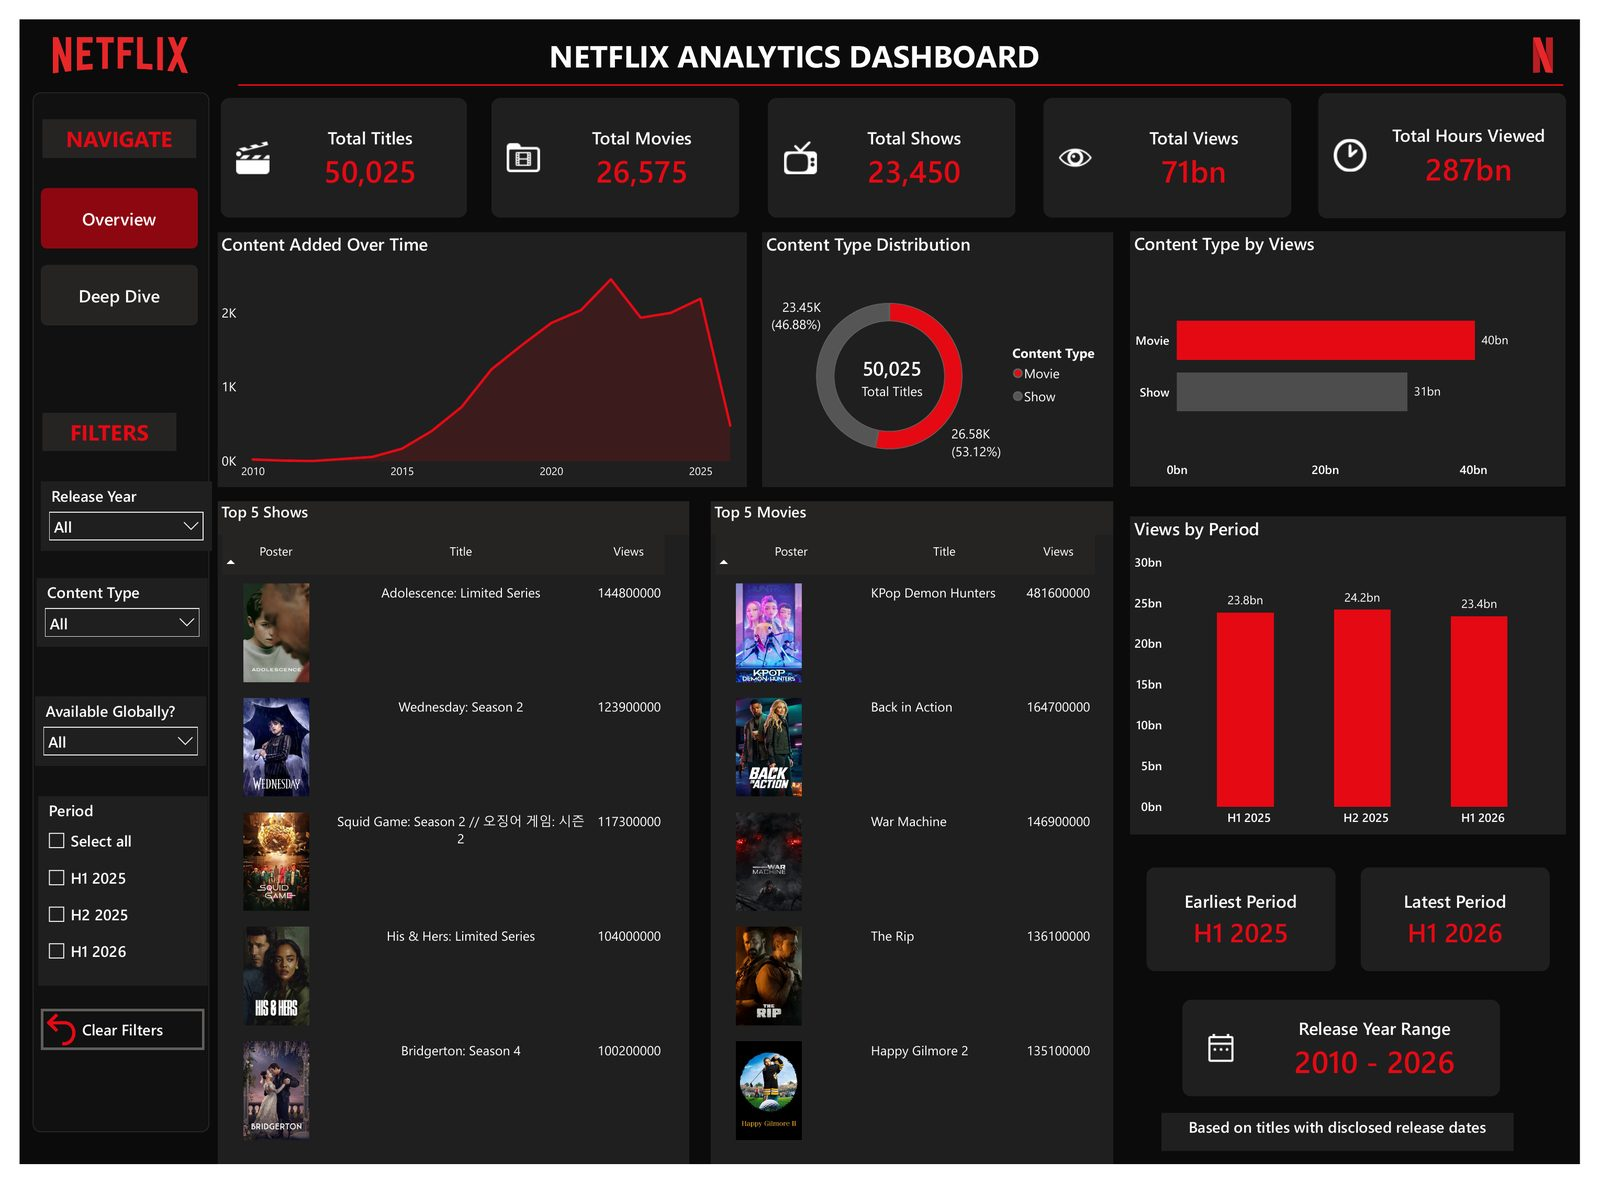

What the dashboard file says about the page in this screenshot:
{"tool":"powerbi","page":{"name":"\tOverview","canvas":[1908,1400],"ordinal":0},"visuals":[{"type":"shape","box":[16.4,89.1,215.8,1271.5],"z":0},{"type":"image","box":[18.1,0,209.9,86.9],"z":1000},{"type":"image","box":[1806,0,114,86.9],"z":2000},{"type":"textbox","box":[642.8,14.1,624.3,72.4],"z":3000},{"type":"shape","box":[266.7,72.9,1621.5,14.5],"z":4000},{"type":"cardVisual","fields":{"Data":["_Measures.Total Titles"]},"box":[229.2,79.2,335.5,180.6],"z":5000},{"type":"cardVisual","fields":{"Data":["_Measures.Total TV Shows"]},"box":[897.9,79.2,337.8,180.6],"z":6000},{"type":"cardVisual","fields":{"Data":["_Measures.Total Views"]},"box":[1235.4,79.2,337.8,180.6],"z":7000},{"type":"cardVisual","fields":{"Data":["_Measures.Total Hours Viewed"]},"box":[1570.8,72.9,337.8,187.7],"z":8000},{"type":"cardVisual","fields":{"Data":["_Measures.Total Movies"]},"box":[560.4,79.2,337.8,180.6],"z":9000},{"type":"areaChart","title":"Content Added Over Time","fields":{"Y":["_Measures.Total Titles"],"Category":["Netflix_Combined.Release Year"]},"box":[241.6,260.4,647.5,312],"z":10000},{"type":"donutChart","title":"Content Type Distribution","fields":{"Category":["Netflix_Combined.Content Type"],"Y":["_Measures.Total Titles"]},"box":[907.8,260.4,429.3,312],"z":11000},{"type":"tableEx","title":"Top 5 Shows","fields":{"Values":["Top5_Shows_Posters:.PosterURL","Top5_Shows_Posters:.Title","Sum(Top5_Shows_Posters:.Views)"]},"box":[241.6,588.8,577.1,811.7],"z":12000},{"type":"tableEx","title":"Top 5 Movies","fields":{"Values":["Top5_Movies_Posters.PosterURL","Top5_Movies_Posters.Title","Sum(Top5_Movies_Posters.Views)"]},"box":[844.5,588.8,492.6,811.7],"z":13000},{"type":"barChart","title":" Content Type by Views","fields":{"Y":["Sum(Netflix_Combined.Views)"],"Category":["Netflix_Combined.Content Type"]},"box":[1357.6,259.1,532.5,312],"z":14000},{"type":"clusteredColumnChart","title":"Views by Period","fields":{"Y":["Sum(Netflix_Combined.Views)"],"Category":["Netflix_Combined.Period"]},"box":[1358.3,607.6,532.5,389.4],"z":15000},{"type":"cardVisual","fields":{"Data":["_Measures.Earliest Period"]},"box":[1360.6,1020.4,265.1,161.9],"z":16000},{"type":"cardVisual","fields":{"Data":["_Measures.Release Year Range"]},"box":[1405.2,1182.3,422.3,152.5],"z":17000},{"type":"cardVisual","fields":{"Data":["_Measures.Latest Period"]},"box":[1623.3,1020.4,265.1,161.9],"z":18000},{"type":"textbox","box":[1395.8,1337.1,431.6,46.9],"z":19000},{"type":"cardVisual","fields":{"Data":["_Measures.Total Titles"]},"box":[997,394.1,140.8,86.8],"z":20000},{"type":"slicer","fields":{"Values":["Netflix_Combined.Release Year"]},"box":[25.8,565.4,208.8,84.5],"z":21000},{"type":"slicer","fields":{"Values":["Netflix_Combined.Available Globally?"]},"box":[18.8,828.1,208.8,84.5],"z":22000},{"type":"slicer","fields":{"Values":["Netflix_Combined.Period"]},"box":[23.5,950.1,206.4,232.2],"z":23000},{"type":"slicer","fields":{"Values":["Netflix_Combined.Content Type"]},"box":[21.1,682.6,208.8,84.5],"z":24000},{"type":"actionButton","box":[25.8,1210.5,200,50],"z":25000},{"type":"pageNavigator","box":[25.8,206.4,192.4,168.9],"z":26000},{"type":"textbox","box":[28.2,480.9,164.2,46.9],"z":27000},{"type":"textbox","box":[28.2,122,187.7,46.9],"z":28000}]}

Visuals, with their boxes in screenshot pixels (x1, y1, x2, y2), scaled from the page's 1908x1400 canvas onto the 1600x1184 screenshot:
shape: detection(14, 75, 195, 1151)
image: detection(15, 0, 191, 73)
image: detection(1514, 0, 1599, 73)
textbox: detection(539, 12, 1063, 73)
shape: detection(224, 62, 1583, 74)
cardVisual - _Measures.Total Titles: detection(192, 67, 474, 220)
cardVisual - _Measures.Total TV Shows: detection(753, 67, 1036, 220)
cardVisual - _Measures.Total Views: detection(1036, 67, 1319, 220)
cardVisual - _Measures.Total Hours Viewed: detection(1317, 62, 1599, 220)
cardVisual - _Measures.Total Movies: detection(470, 67, 753, 220)
"Content Added Over Time" areaChart: detection(203, 220, 746, 484)
"Content Type Distribution" donutChart: detection(761, 220, 1121, 484)
"Top 5 Shows" tableEx: detection(203, 498, 687, 1183)
"Top 5 Movies" tableEx: detection(708, 498, 1121, 1183)
" Content Type by Views" barChart: detection(1138, 219, 1585, 483)
"Views by Period" clusteredColumnChart: detection(1139, 514, 1586, 843)
cardVisual - _Measures.Earliest Period: detection(1141, 863, 1363, 1000)
cardVisual - _Measures.Release Year Range: detection(1178, 1000, 1532, 1129)
cardVisual - _Measures.Latest Period: detection(1361, 863, 1584, 1000)
textbox: detection(1170, 1131, 1532, 1170)
cardVisual - _Measures.Total Titles: detection(836, 333, 954, 407)
slicer - Netflix_Combined.Release Year: detection(22, 478, 197, 550)
slicer - Netflix_Combined.Available Globally?: detection(16, 700, 191, 772)
slicer - Netflix_Combined.Period: detection(20, 804, 193, 1000)
slicer - Netflix_Combined.Content Type: detection(18, 577, 193, 649)
actionButton: detection(22, 1024, 189, 1066)
pageNavigator: detection(22, 175, 183, 317)
textbox: detection(24, 407, 161, 446)
textbox: detection(24, 103, 181, 143)
